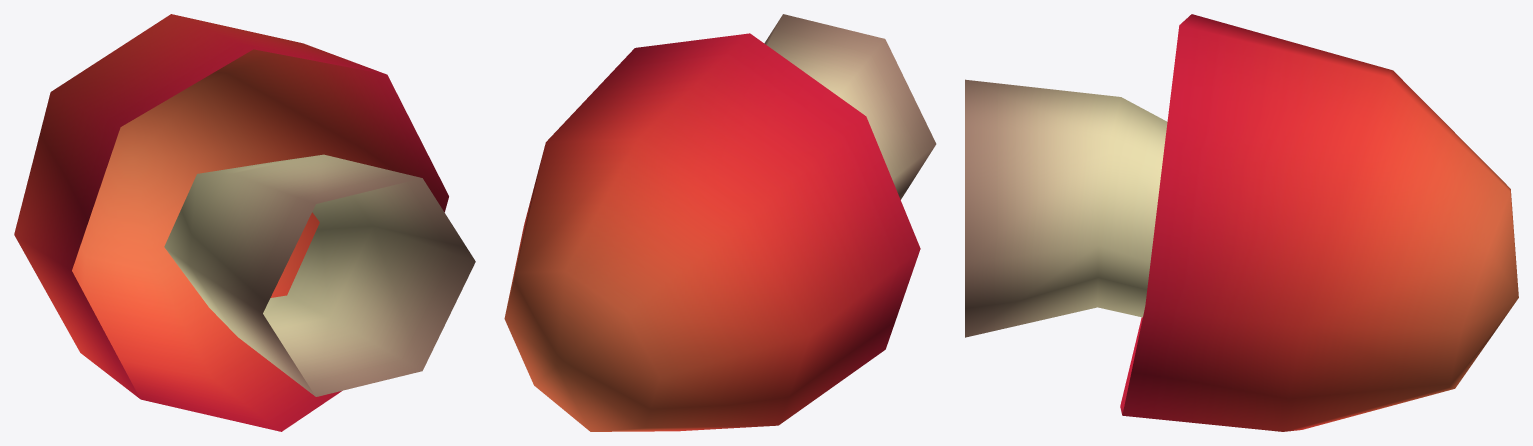
Rendered from Mushroom 01.FBX.
The picture shows the model from 3 angles, left to right: view 1: azimuth 30°, elevation 25°; view 2: azimuth 150°, elevation 25°; view 3: azimuth 270°, elevation 25°; orthographic projection. The views are drawn at different scales.
Visible parts, largest first — view 1: Mushroom 01; view 2: Mushroom 01; view 3: Mushroom 01.
Boxes of the visible parts, <box> form: Mushroom 01: <box>14,14,475,431</box>; Mushroom 01: <box>504,14,936,431</box>; Mushroom 01: <box>965,14,1518,431</box>.
Size of the model in its own units: 36.18 by 36.18 by 45.87.
Materials: 1 (1 with a texture image).
